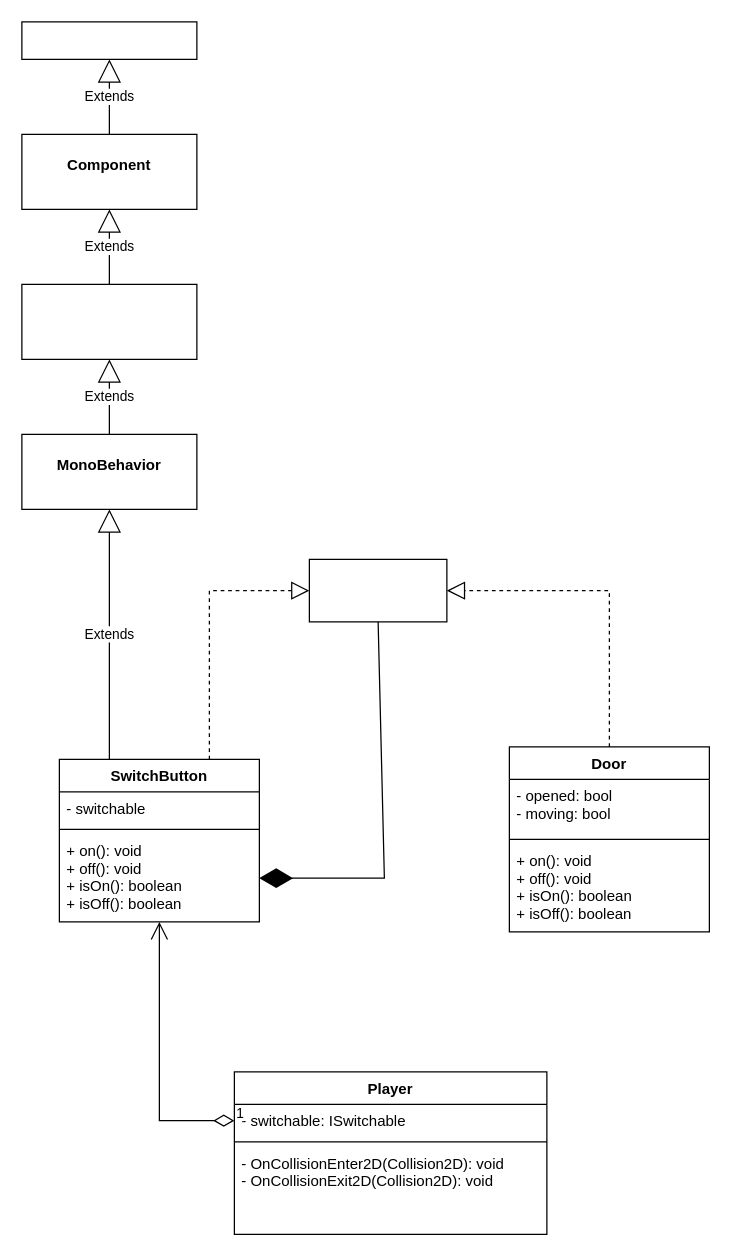
Image size: 731x1260. Some labels were removed from this diagram. Here are the shapes that lost their labels. From the top down, the centre of each, then its label:
point 109,40: Object
point 109,321: Behavior
point 377,590: «interface» ISwitchable
